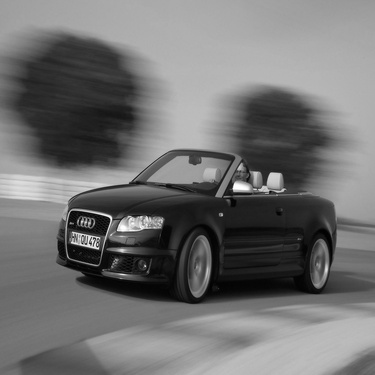car: (51, 132, 341, 305)
